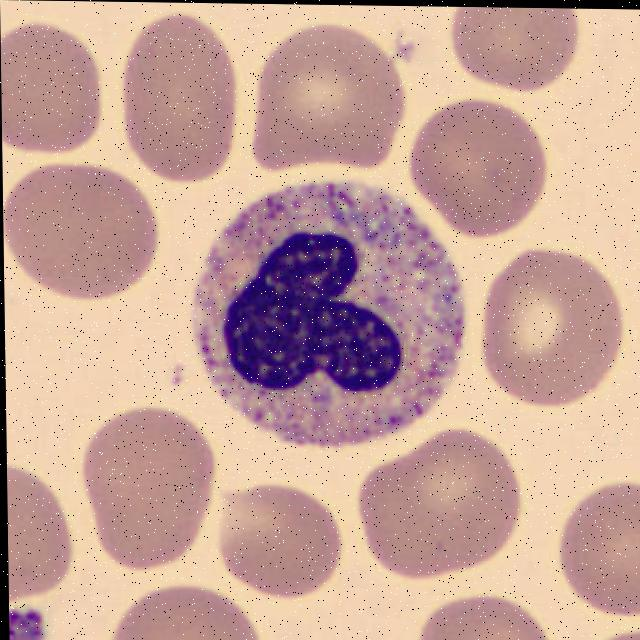neutrophil: (187, 174, 470, 454)
platelets: (9, 603, 48, 640)
rbc: (85, 415, 210, 577), (478, 259, 619, 400), (366, 445, 516, 576), (257, 30, 394, 169), (11, 171, 154, 289), (124, 30, 231, 182), (418, 100, 546, 227), (1, 24, 98, 151), (232, 487, 340, 594), (562, 494, 640, 616), (460, 7, 567, 87), (7, 476, 72, 597), (116, 594, 258, 640), (419, 602, 554, 640)
